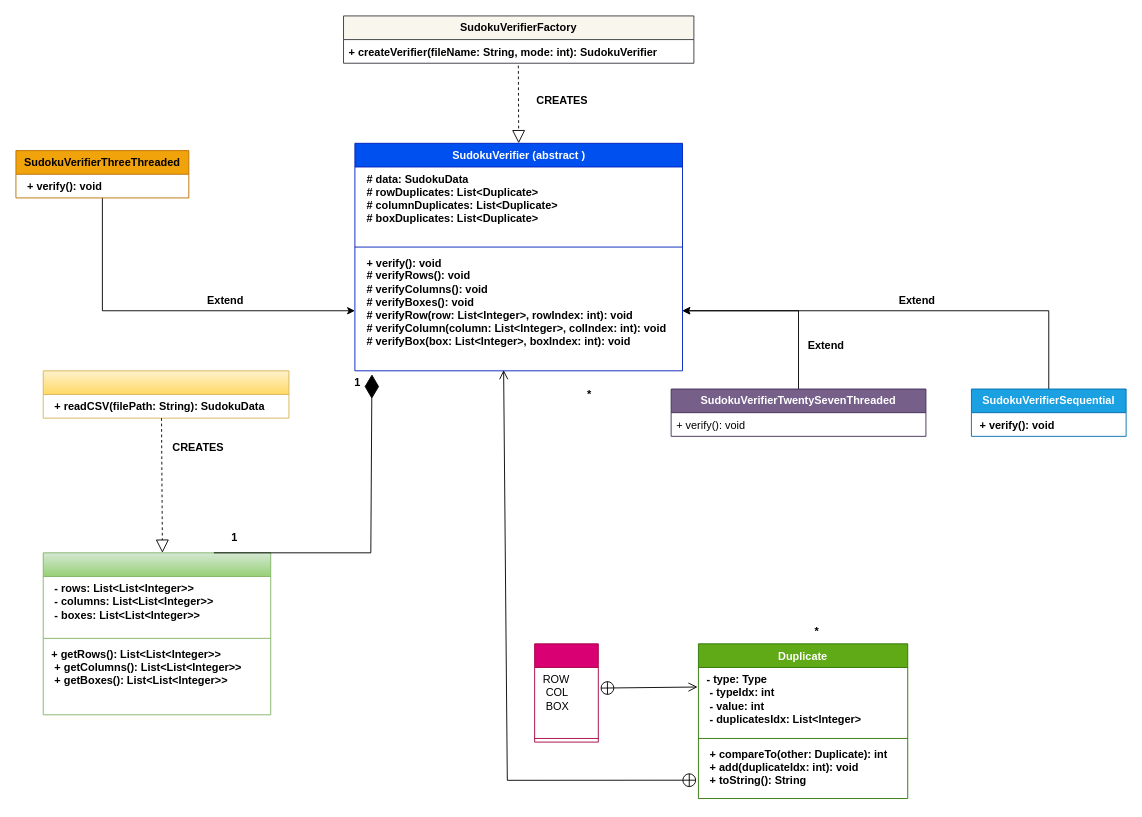
The diagram is 1142 pixels wide and 817 high, and some of its shapes have lost their labels. Here are the shapes that lost their labels. From the top down, the box of each, then its label:
(42, 370, 289, 418): CSVReader
(42, 552, 271, 715): SudokuData
(534, 643, 598, 742): Enum Type
